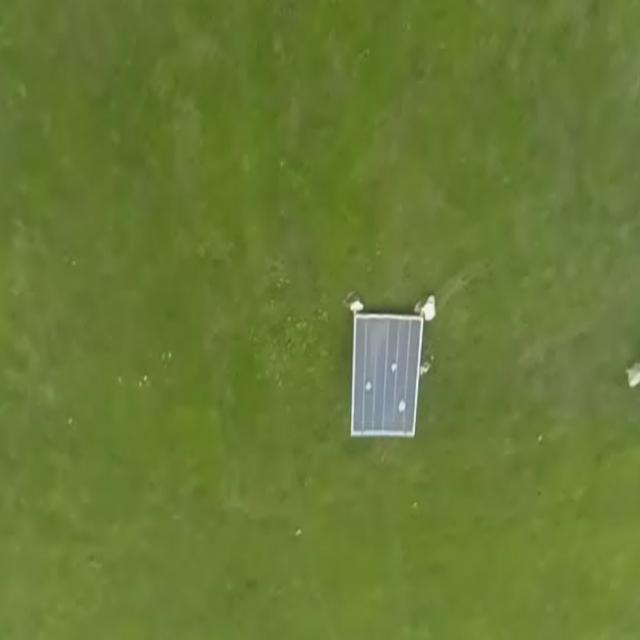faulty: (353, 319, 419, 432)
